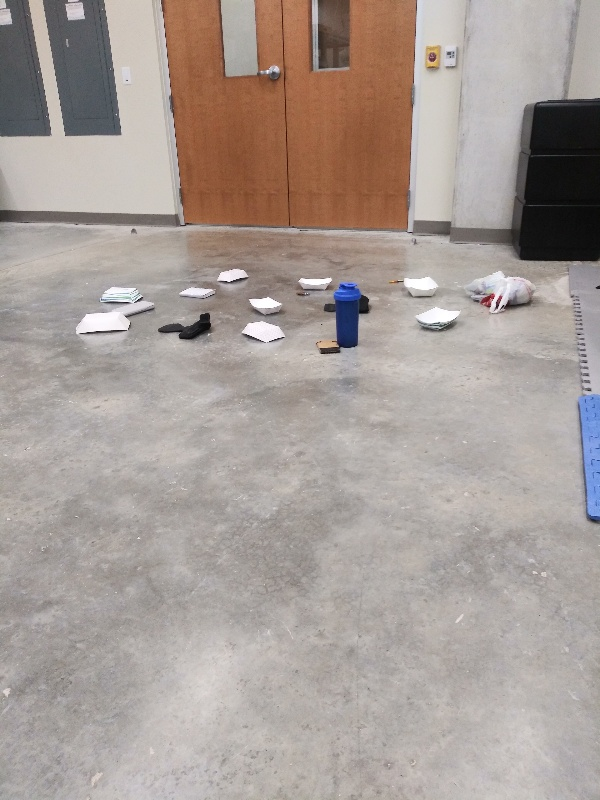plate: (70, 309, 136, 339), (410, 303, 461, 334), (397, 272, 443, 301), (238, 319, 289, 345), (245, 292, 286, 318), (294, 273, 341, 293), (210, 265, 255, 285), (99, 283, 143, 303)
